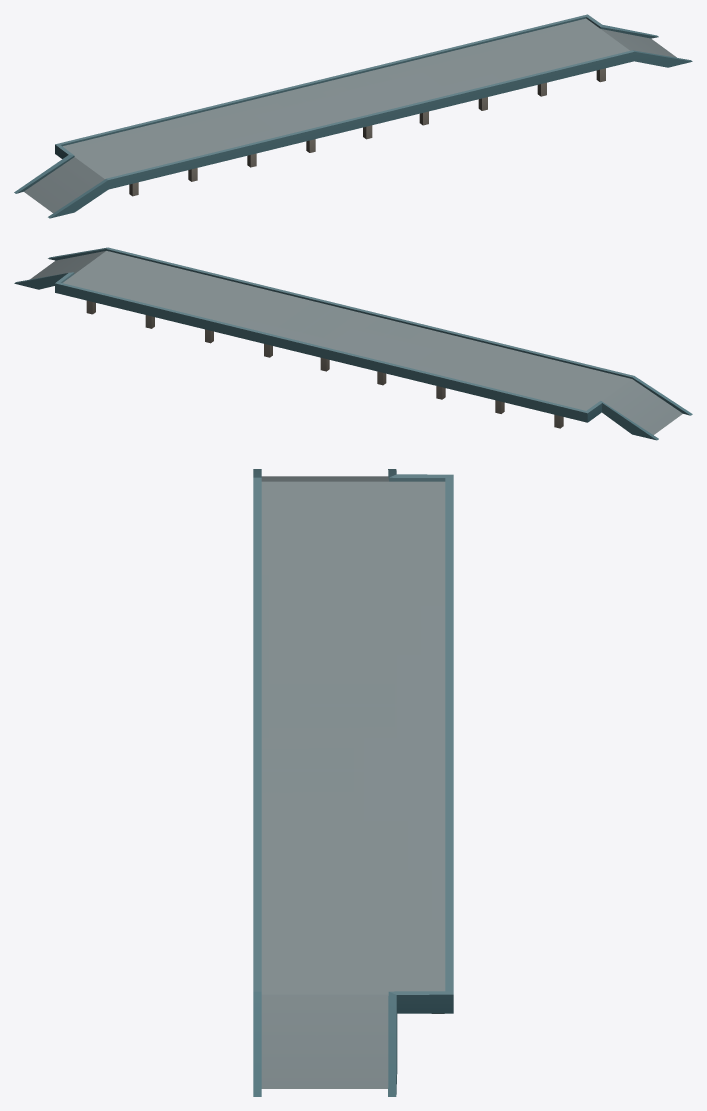
The model's file is Train_Platform.fbx.
3 views of the same model, one above another, from view 1: azimuth 30°, elevation 25°; view 2: azimuth 150°, elevation 25°; view 3: azimuth 270°, elevation 25° (orthographic). The views are drawn at different scales.
Visible parts, largest first — view 1: Train_Platform; view 2: Train_Platform; view 3: Train_Platform.
Boxes of the visible parts, box(x1,y1,x2,y2) form: Train_Platform: box(14, 14, 692, 218); Train_Platform: box(14, 247, 692, 440); Train_Platform: box(253, 469, 453, 1096).
Bounding box in the file's own units: 3986 × 143 × 537.
